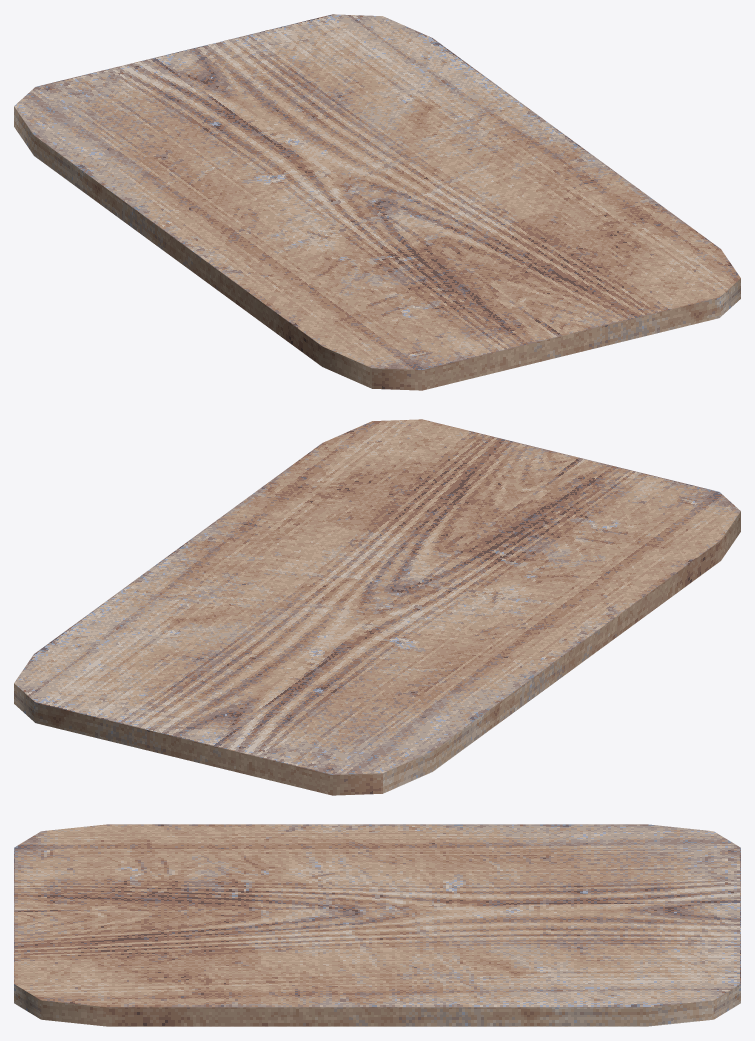
The model's file is retro_cutting_board.glb.
The picture shows the model from 3 angles, top to bottom: view 1: azimuth 30°, elevation 25°; view 2: azimuth 150°, elevation 25°; view 3: azimuth 270°, elevation 25°; orthographic projection. The views are drawn at different scales.
Visible parts, largest first — view 1: Plane; view 2: Plane; view 3: Plane.
Boxes of the visible parts, x1,y1,x2,y2 form: Plane: [14, 14, 740, 390]; Plane: [14, 419, 740, 795]; Plane: [14, 824, 740, 1026].
Bounding box in the file's own units: 0.238 × 0.0117 × 0.4.
Materials: 1 (1 with a texture image).
